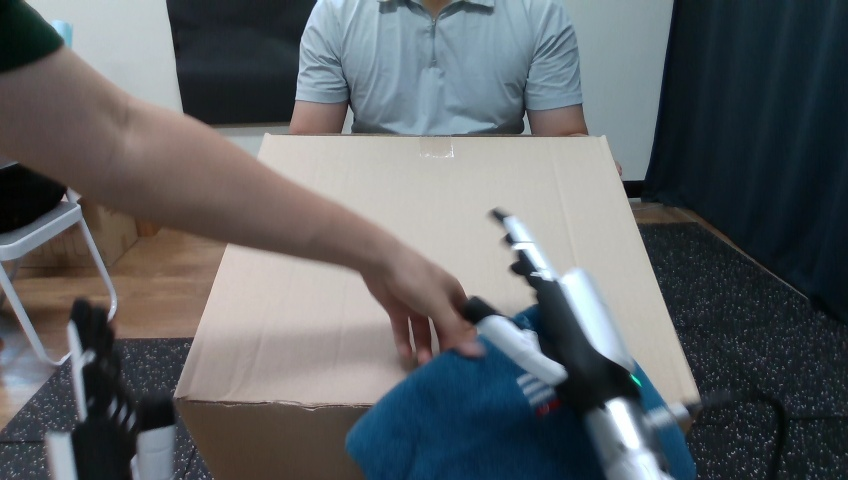left robot hand: (465, 208, 675, 479)
